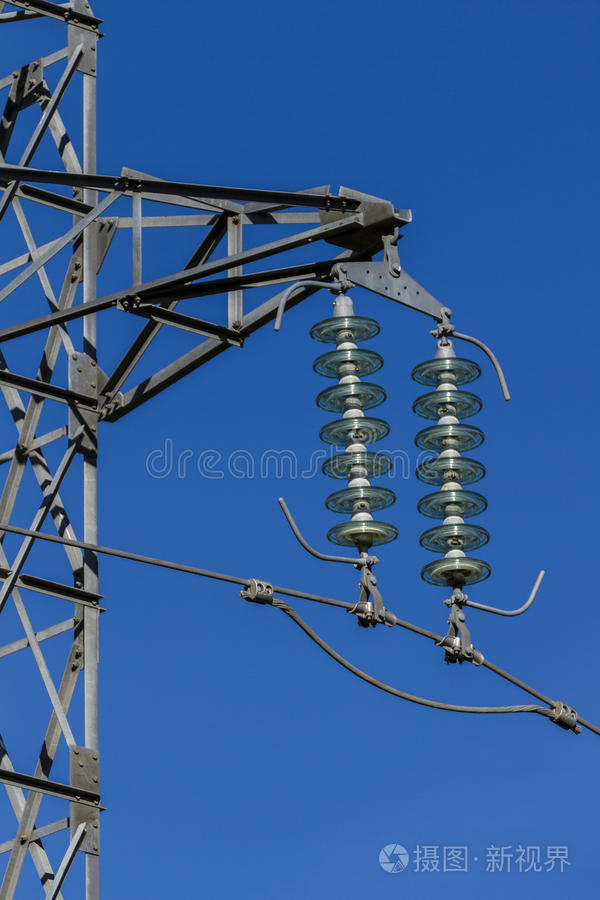insulator: (311, 314, 400, 551), (408, 356, 493, 589)
